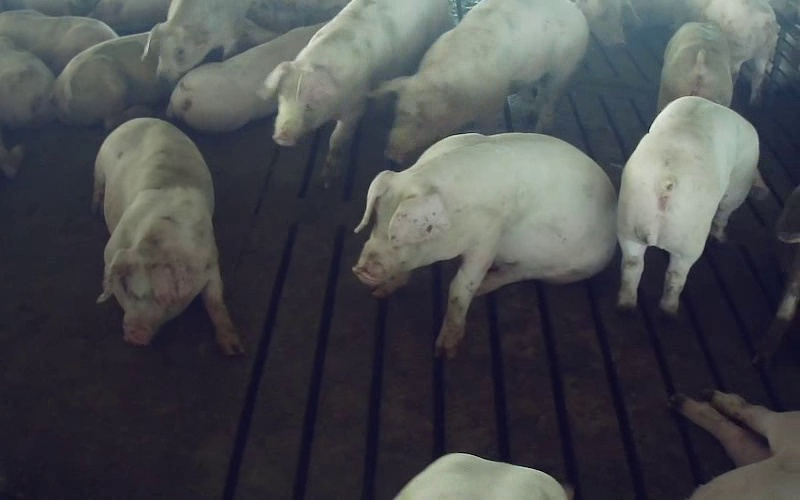pig: (354, 134, 615, 357), (93, 118, 242, 354), (617, 96, 758, 313), (167, 24, 321, 132), (54, 33, 170, 128), (145, 0, 276, 82), (658, 22, 732, 111)
